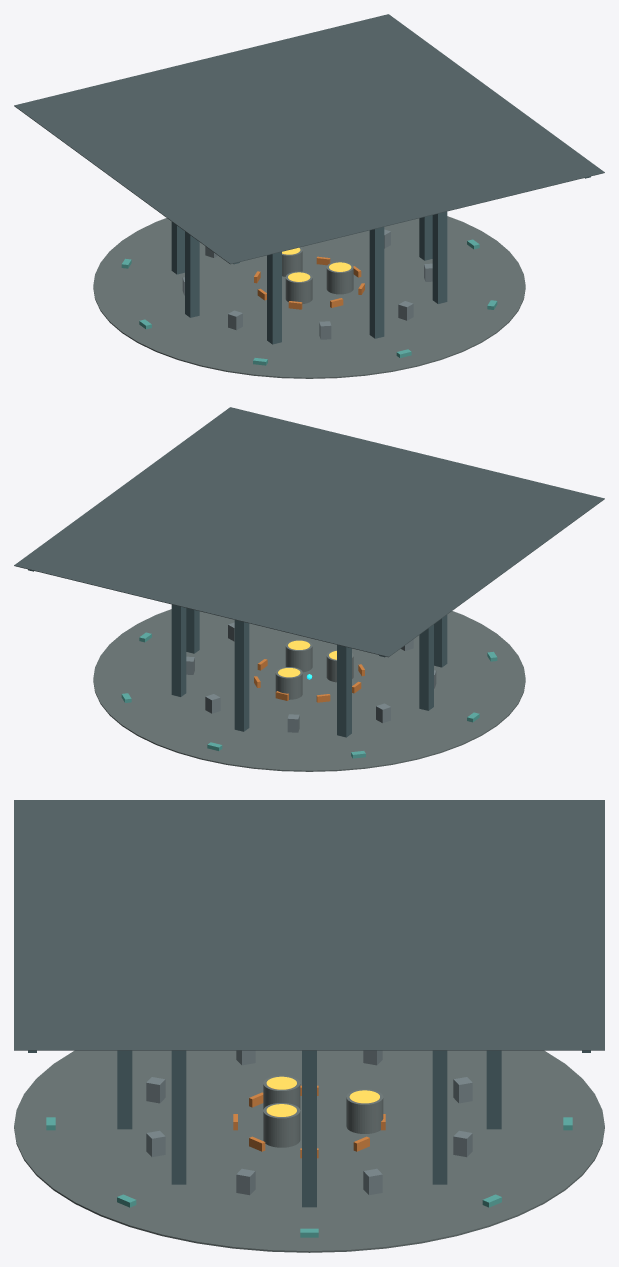
Rendered from saltglass_gutting_hall_arena_graybox.glb.
3 views of the same model, one above another, from view 1: azimuth 30°, elevation 25°; view 2: azimuth 150°, elevation 25°; view 3: azimuth 270°, elevation 25° (orthographic). The views are drawn at different scales.
Visible parts, largest first — view 1: SGC_TierA_CathedralCeiling_24m, SGC_ArenaFloor_64m_Diameter, SGC_CathedralPillar_05, SGC_CathedralPillar_04, SGC_CathedralPillar_06, SGC_CathedralPillar_07, SGC_HeroVat_03, SGC_HeroVat_02, SGC_CathedralPillar_08, SGC_CathedralPillar_03; view 2: SGC_TierA_CathedralCeiling_24m, SGC_ArenaFloor_64m_Diameter, SGC_CathedralPillar_01, SGC_CathedralPillar_02, SGC_CathedralPillar_08, SGC_CathedralPillar_07, SGC_CathedralPillar_06, SGC_HeroVat_03, SGC_HeroVat_01, SGC_CathedralPillar_03; view 3: SGC_TierA_CathedralCeiling_24m, SGC_ArenaFloor_64m_Diameter, SGC_CathedralPillar_03, SGC_CathedralPillar_02, SGC_CathedralPillar_04, SGC_HeroVat_03, SGC_CathedralPillar_01, SGC_CathedralPillar_05, SGC_HeroVat_01, SGC_HeroVat_02.
Part boxes in pixels (x1=…): SGC_TierA_CathedralCeiling_24m: x1=14, y1=14, x2=604, y2=264; SGC_ArenaFloor_64m_Diameter: x1=93, y1=216, x2=525, y2=378; SGC_CathedralPillar_05: x1=369, y1=227, x2=384, y2=338; SGC_CathedralPillar_04: x1=432, y1=211, x2=447, y2=303; SGC_CathedralPillar_06: x1=267, y1=252, x2=281, y2=344; SGC_CathedralPillar_07: x1=185, y1=231, x2=199, y2=317; SGC_HeroVat_03: x1=326, y1=261, x2=353, y2=294; SGC_HeroVat_02: x1=285, y1=271, x2=312, y2=304; SGC_CathedralPillar_08: x1=171, y1=222, x2=184, y2=274; SGC_CathedralPillar_03: x1=419, y1=215, x2=432, y2=260; SGC_TierA_CathedralCeiling_24m: x1=14, y1=407, x2=604, y2=657; SGC_ArenaFloor_64m_Diameter: x1=93, y1=609, x2=525, y2=771; SGC_CathedralPillar_01: x1=234, y1=620, x2=249, y2=731; SGC_CathedralPillar_02: x1=171, y1=604, x2=186, y2=696; SGC_CathedralPillar_08: x1=337, y1=645, x2=351, y2=737; SGC_CathedralPillar_07: x1=419, y1=624, x2=433, y2=710; SGC_CathedralPillar_06: x1=434, y1=615, x2=447, y2=667; SGC_HeroVat_03: x1=285, y1=639, x2=312, y2=672; SGC_HeroVat_01: x1=275, y1=667, x2=302, y2=699; SGC_CathedralPillar_03: x1=186, y1=608, x2=199, y2=653; SGC_TierA_CathedralCeiling_24m: x1=14, y1=800, x2=604, y2=1050; SGC_ArenaFloor_64m_Diameter: x1=14, y1=1050, x2=604, y2=1252; SGC_CathedralPillar_03: x1=302, y1=1050, x2=316, y2=1207; SGC_CathedralPillar_02: x1=432, y1=1050, x2=447, y2=1184; SGC_CathedralPillar_04: x1=171, y1=1050, x2=186, y2=1184; SGC_HeroVat_03: x1=263, y1=1103, x2=300, y2=1147; SGC_CathedralPillar_01: x1=486, y1=1050, x2=501, y2=1129; SGC_CathedralPillar_05: x1=117, y1=1050, x2=132, y2=1129; SGC_HeroVat_01: x1=346, y1=1089, x2=383, y2=1133; SGC_HeroVat_02: x1=263, y1=1075, x2=300, y2=1109.
Bounding box in the file's own units: 64 × 24.25 × 64.
